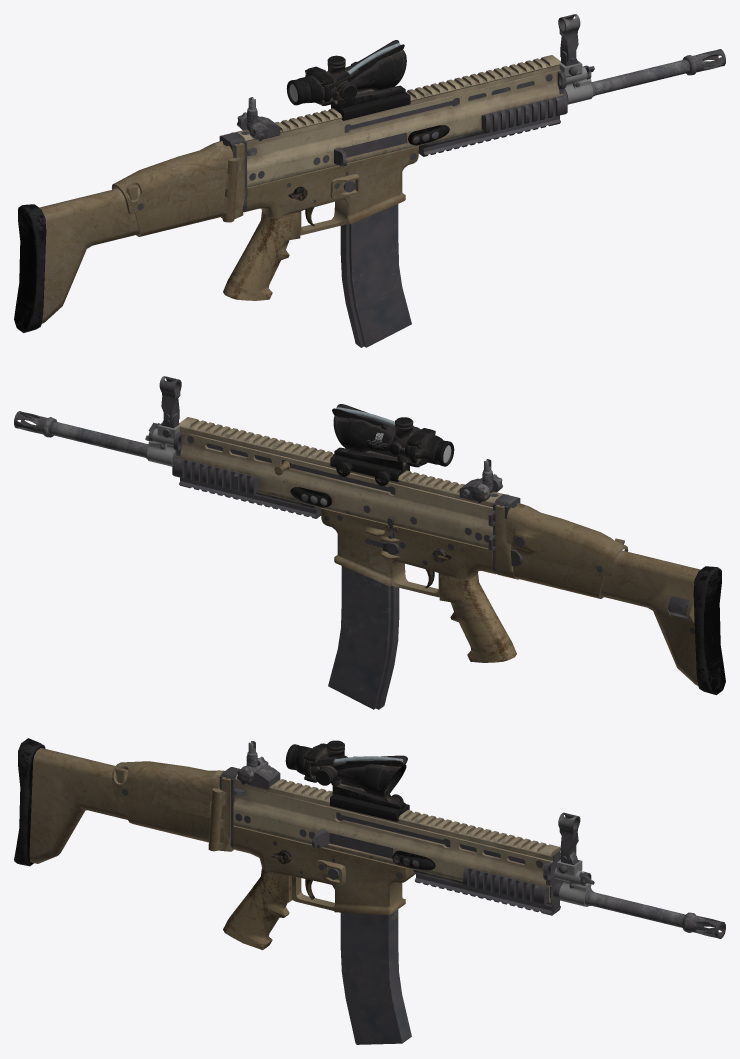
The model's file is scar.obj.
3 views of the same model, one above another, from view 1: azimuth 30°, elevation 25°; view 2: azimuth 150°, elevation 25°; view 3: azimuth 330°, elevation 25° (orthographic).
Visible parts, largest first — view 1: scar_L_setting, scar_L_Mag_01_setting, ACOG_01; view 2: scar_L_setting, scar_L_Mag_01_setting, ACOG_01; view 3: scar_L_setting, scar_L_Mag_01_setting, ACOG_01.
Boxes of the visible parts, x1,y1,x2,y2 form: scar_L_setting: (14,14,725,332); scar_L_Mag_01_setting: (340,204,411,347); ACOG_01: (286,40,410,120); scar_L_setting: (14,376,725,695); scar_L_Mag_01_setting: (328,566,399,709); ACOG_01: (330,404,454,486); scar_L_setting: (14,738,725,950); scar_L_Mag_01_setting: (340,909,411,1044); ACOG_01: (285,740,409,821).
Size of the model in its own units: 84.79 by 33.73 by 6.09.
